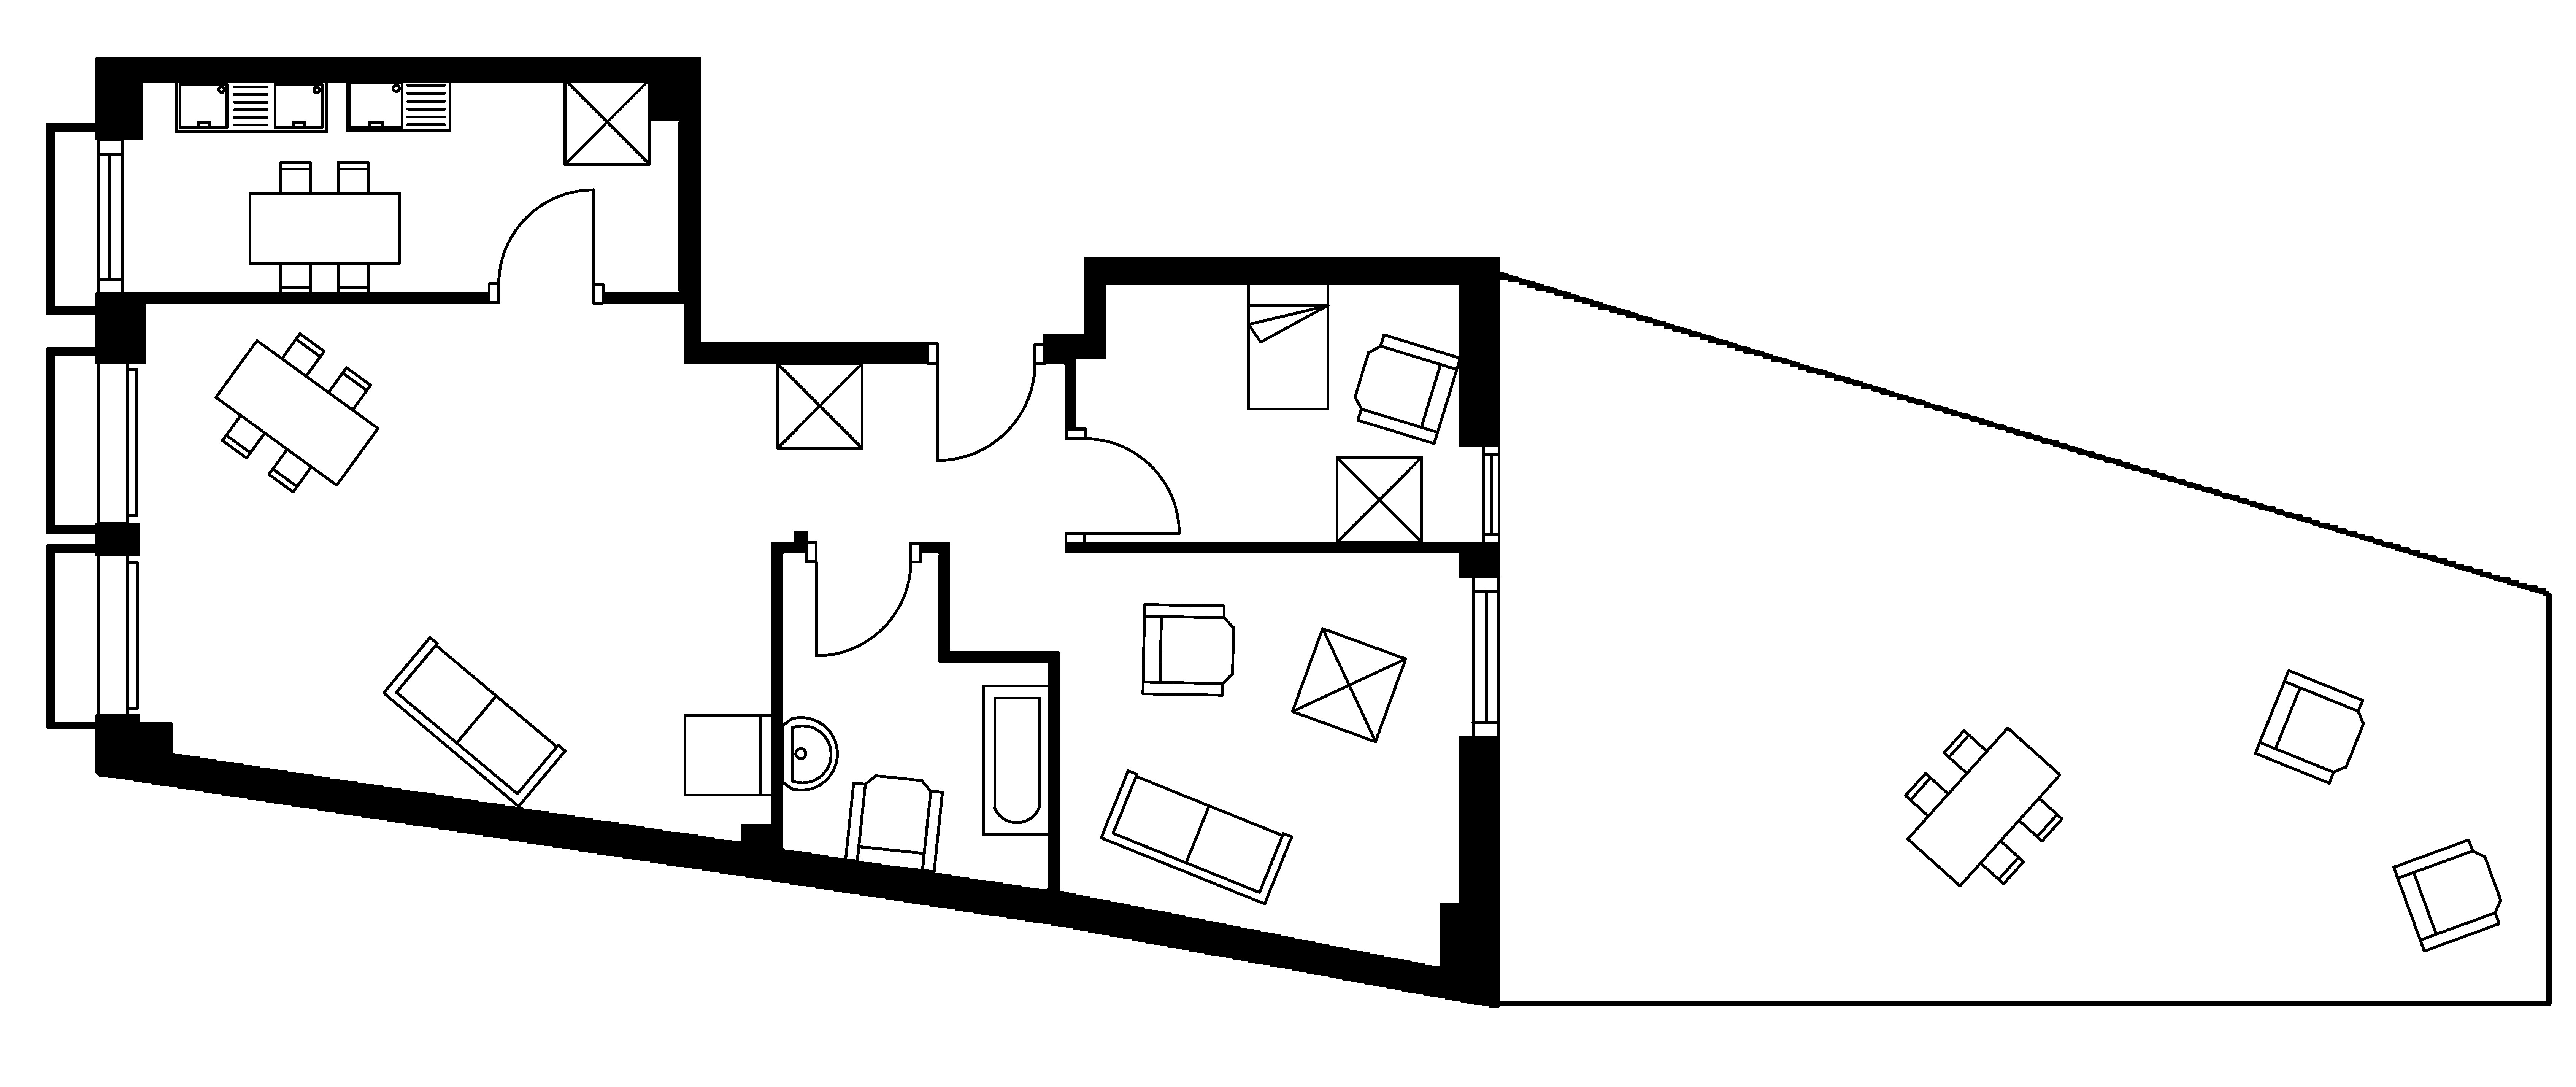armchair: (2254, 668, 2366, 784), (1352, 332, 1462, 446), (2392, 839, 2502, 952), (843, 773, 945, 873), (1140, 602, 1235, 697)
bed: (1245, 281, 1329, 411)
coffee_table: (1290, 627, 1408, 743), (562, 77, 651, 166), (775, 362, 864, 451), (1334, 456, 1423, 544)
dining_table: (214, 332, 379, 493), (1904, 725, 2063, 888), (248, 160, 401, 296)
large_sofa: (381, 635, 567, 807), (1099, 768, 1293, 906)
sink: (345, 77, 452, 132)
small_sink: (780, 717, 838, 791)
small_sofa: (682, 714, 774, 798)
tub: (981, 684, 1051, 837)
twin_sink: (174, 77, 329, 133)
